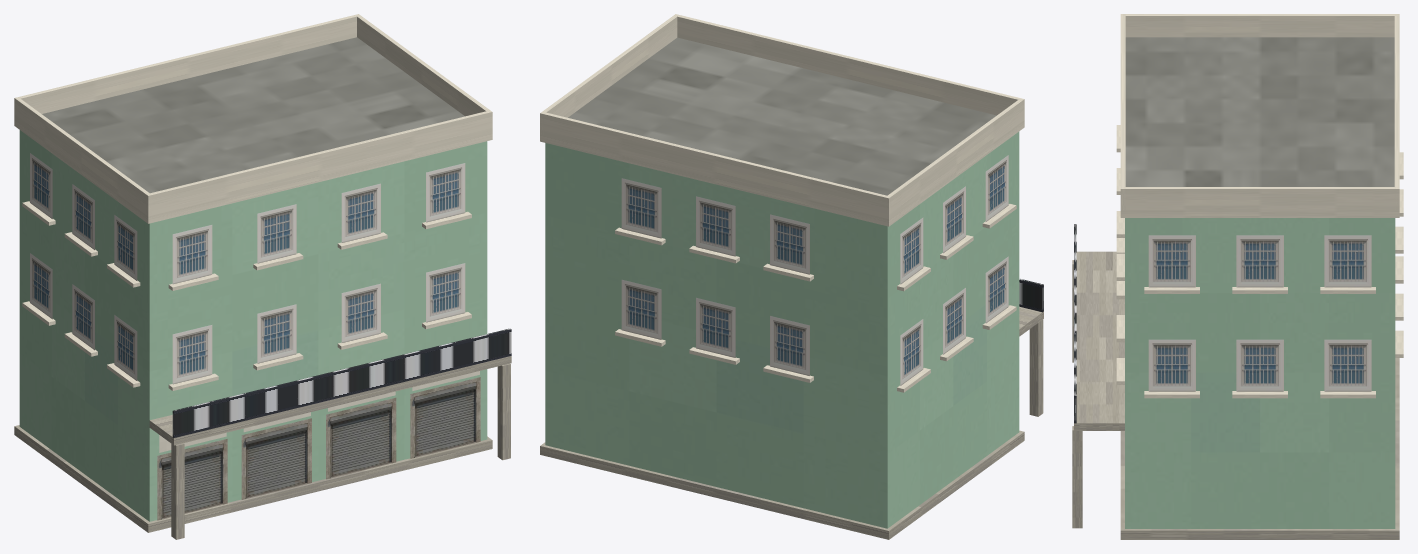
The model's file is shops-mint.glb.
The picture shows the model from 3 angles, left to right: view 1: azimuth 30°, elevation 25°; view 2: azimuth 150°, elevation 25°; view 3: azimuth 270°, elevation 25°; orthographic projection. The views are drawn at different scales.
Visible parts, largest first — view 1: shops-mint; view 2: shops-mint; view 3: shops-mint.
Boxes of the visible parts, left/top/right/bottom form: shops-mint: left=14, top=14, right=511, bottom=539; shops-mint: left=540, top=14, right=1043, bottom=539; shops-mint: left=1072, top=14, right=1403, bottom=539.
Bounding box in the file's own units: 12.48 × 11.45 × 9.79.
Materials: 1 (1 with a texture image).
